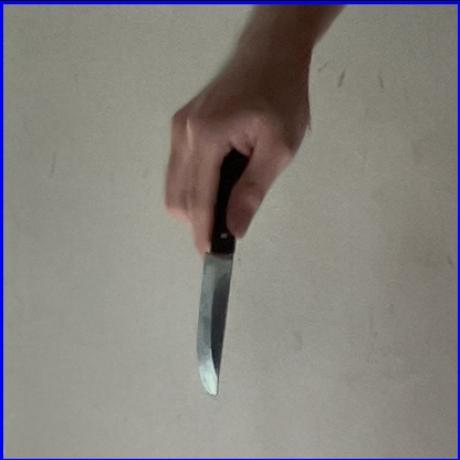1: (161, 6, 350, 257)
weapon: (190, 151, 258, 397)
